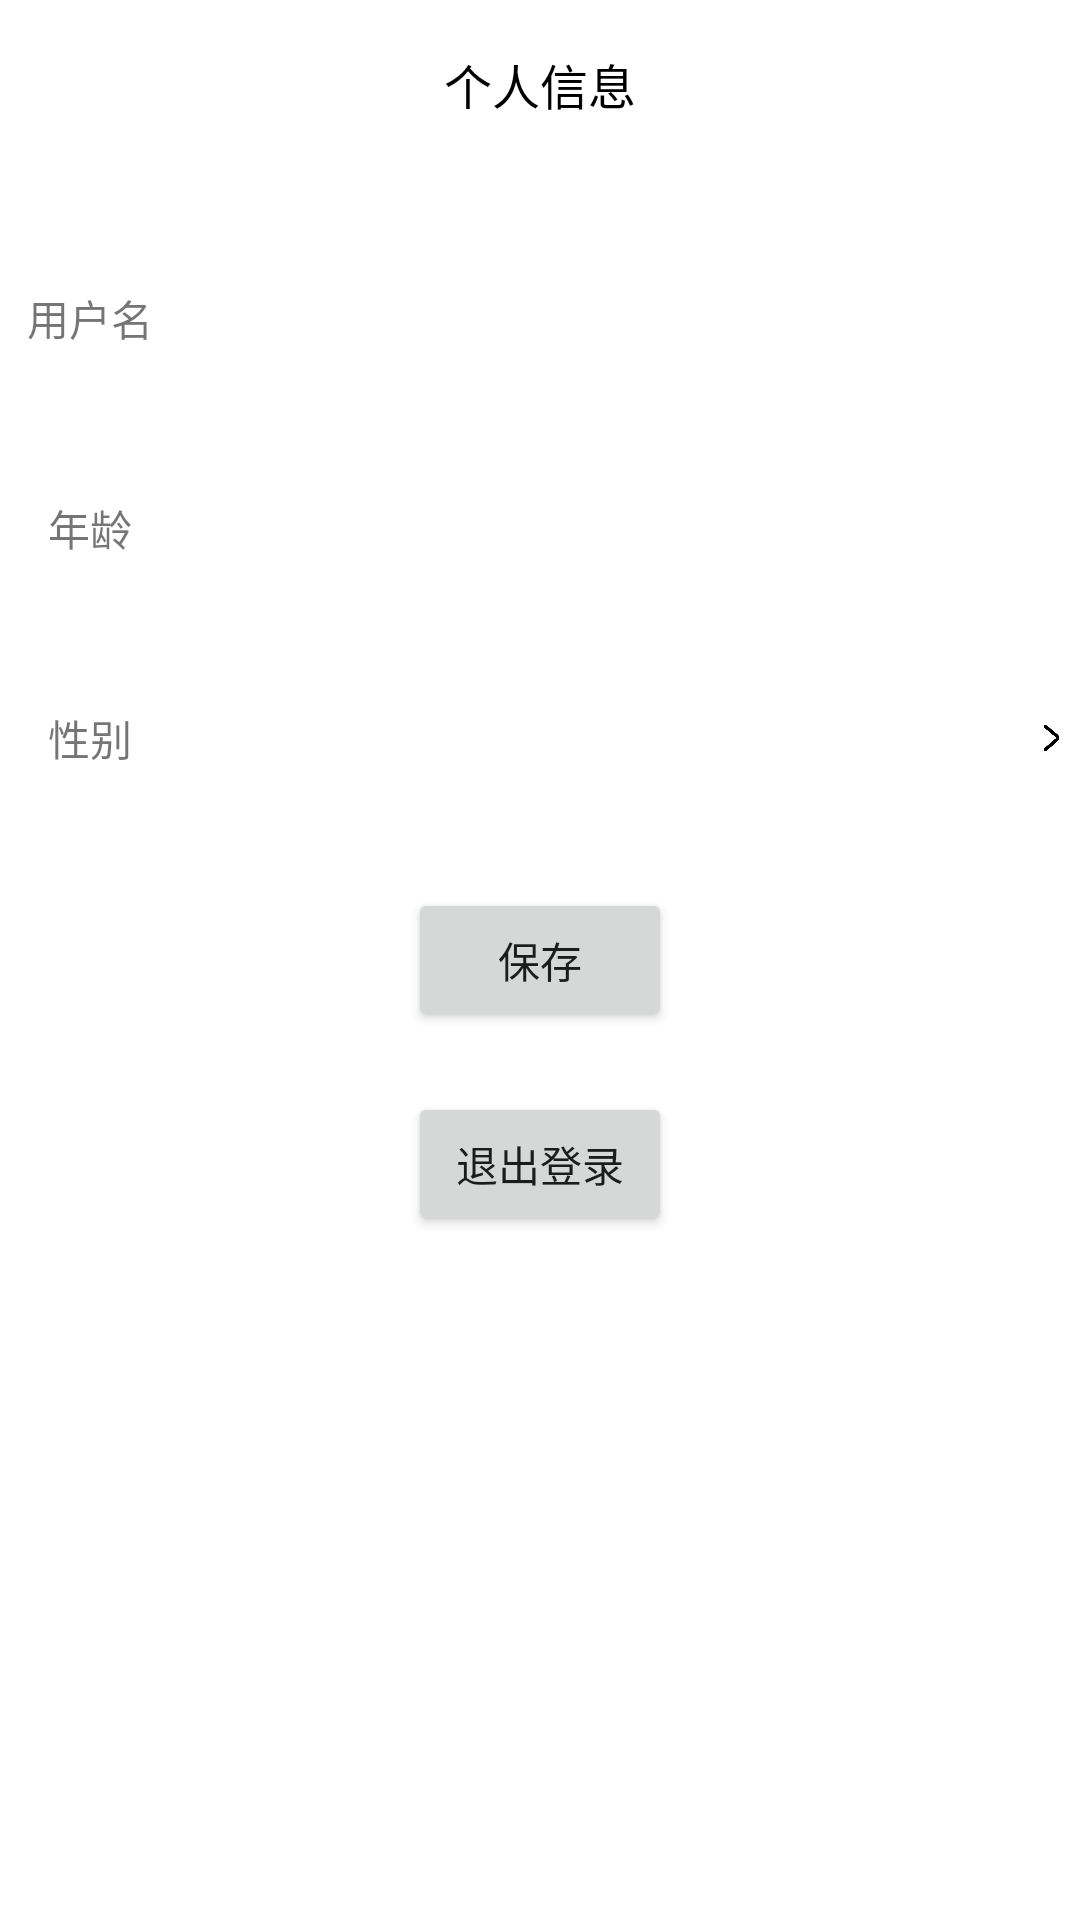

Icons on this 1080w x 1920h Android screen, each with the point to tap as (x=x, y=y):
rightaw: (x=1051, y=738)
